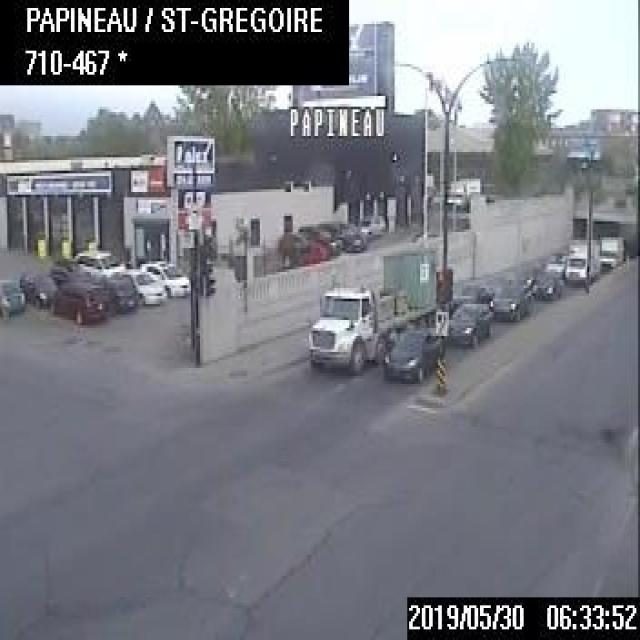vehicle: (305, 248, 454, 369), (382, 323, 442, 378), (51, 278, 106, 322), (444, 300, 496, 345), (561, 236, 603, 285), (485, 278, 532, 320), (142, 258, 188, 296), (124, 266, 166, 305), (19, 270, 59, 308), (298, 222, 341, 256), (73, 248, 125, 276), (443, 173, 482, 209), (104, 272, 136, 313), (320, 220, 363, 250), (451, 275, 492, 304), (278, 232, 313, 265), (596, 232, 625, 270), (48, 258, 89, 284), (0, 279, 27, 317), (530, 267, 562, 298), (358, 212, 386, 237)
